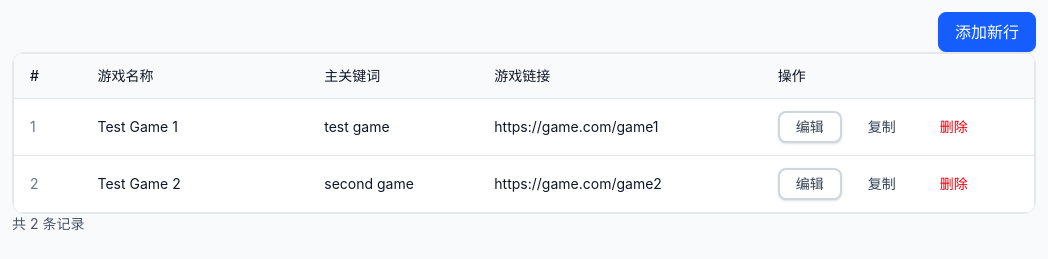
Scenario: EditableTable组件 › 应该在编辑时显示正在编辑的统计信息
Step 1. Click the button "编辑" in the row of "Test Game 1" → click(810, 127), box [778,111,842,143]
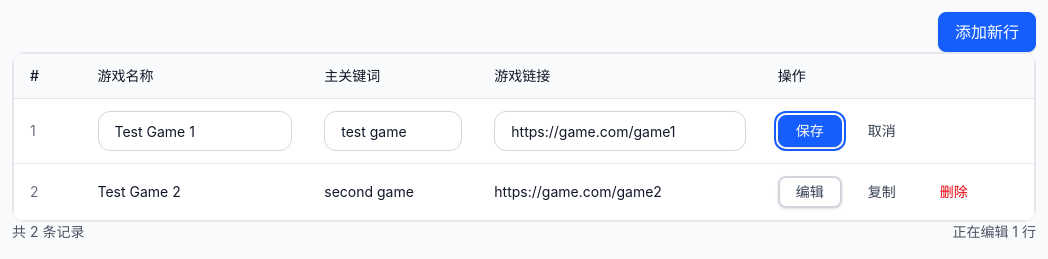
Expected: the text "正在编辑 1 行" is shown, [952,222,1036,242]
